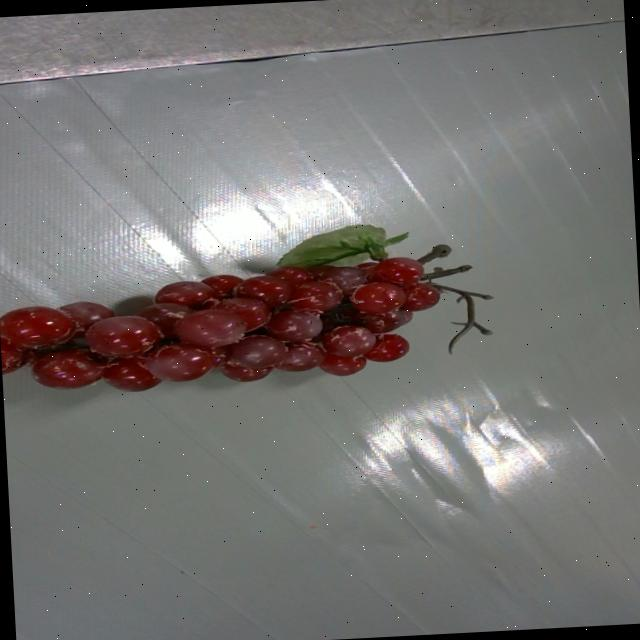grape: (0, 224, 491, 391)
